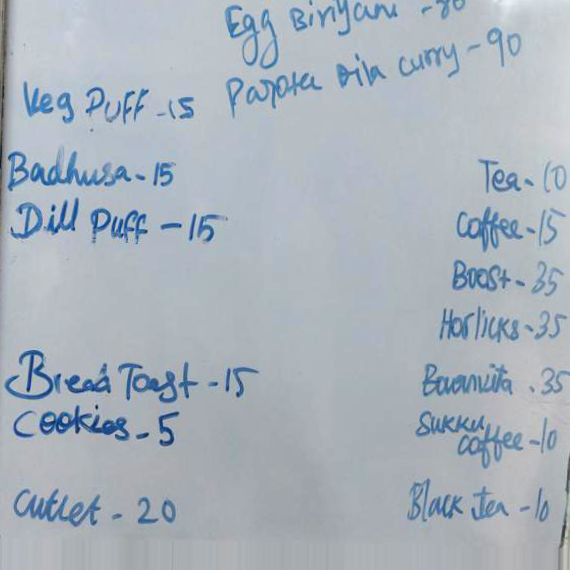Tea - 10: (471, 148, 570, 200)
badhusa -15: (7, 144, 177, 199)
black tea - 10: (404, 472, 570, 528)
boost - 35: (448, 256, 570, 299)
bournvita - 35: (417, 355, 570, 405)
bread toast - 15: (4, 346, 266, 404)
coffee - 15: (452, 206, 570, 251)
cookies - 5: (13, 404, 184, 451)
cutlet - 20: (11, 484, 196, 532)
dill puff - 15: (7, 200, 232, 253)
egg briyani - 80: (221, 1, 410, 51)
horlicks - 35: (437, 300, 570, 351)
parotta - 90: (220, 55, 471, 117)
sukku coffee - 10: (413, 408, 570, 465)
veg puff - 15: (18, 76, 202, 133)
